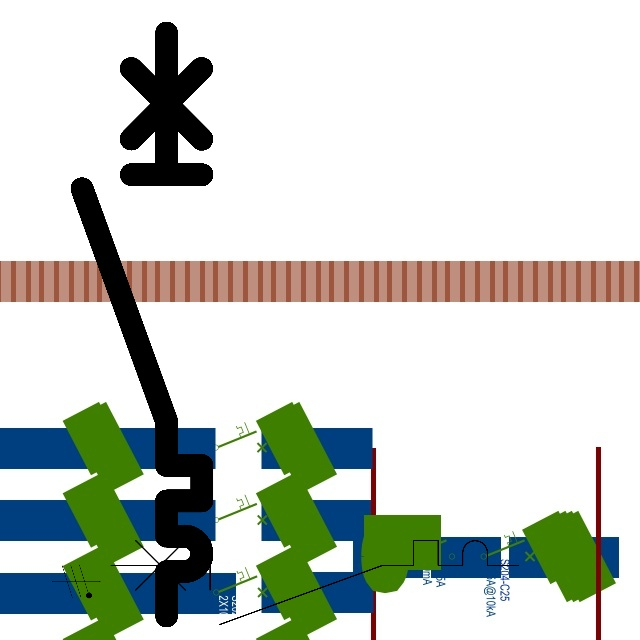interruptor_termomagnetico: (67, 18, 217, 631), (100, 530, 529, 635)
